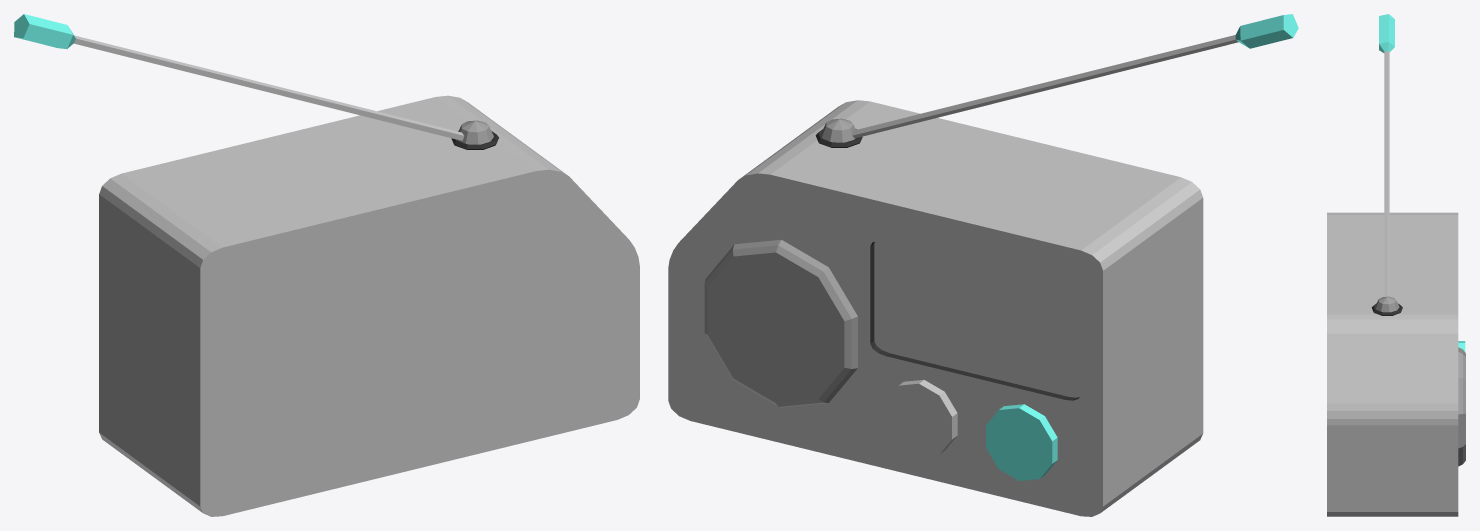
Rendered from radio5_V2.fbx.
The picture shows the model from 3 angles, left to right: view 1: azimuth 30°, elevation 25°; view 2: azimuth 150°, elevation 25°; view 3: azimuth 270°, elevation 25°; orthographic projection. The views are drawn at different scales.
Visible parts, largest first — view 1: Cube.015; view 2: Cube.015; view 3: Cube.015.
Part boxes in pixels (box(x1,y1,x2,y2)): Cube.015: box(14, 14, 639, 516); Cube.015: box(668, 14, 1298, 516); Cube.015: box(1327, 14, 1465, 516).
Size of the model in its own units: 563 by 470 by 180.
